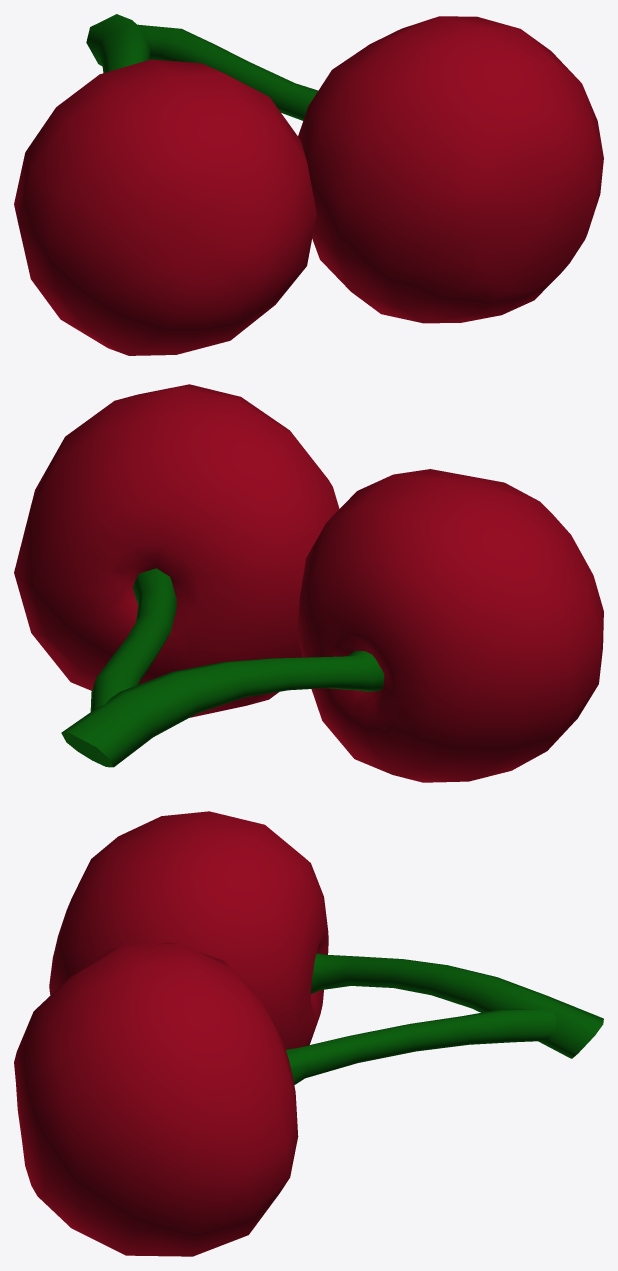
File: CherryFixed.fbx
The picture shows the model from 3 angles, top to bottom: view 1: azimuth 30°, elevation 25°; view 2: azimuth 150°, elevation 25°; view 3: azimuth 270°, elevation 25°; orthographic projection. The views are drawn at different scales.
Visible parts, largest first — view 1: Cherry; view 2: Cherry; view 3: Cherry.
Part boxes in pixels (x1,y1,x2,y2): Cherry: (14, 14, 603, 355); Cherry: (14, 384, 603, 782); Cherry: (14, 811, 603, 1256).
Bounding box in the file's own units: 2902 × 1476 × 2763.
